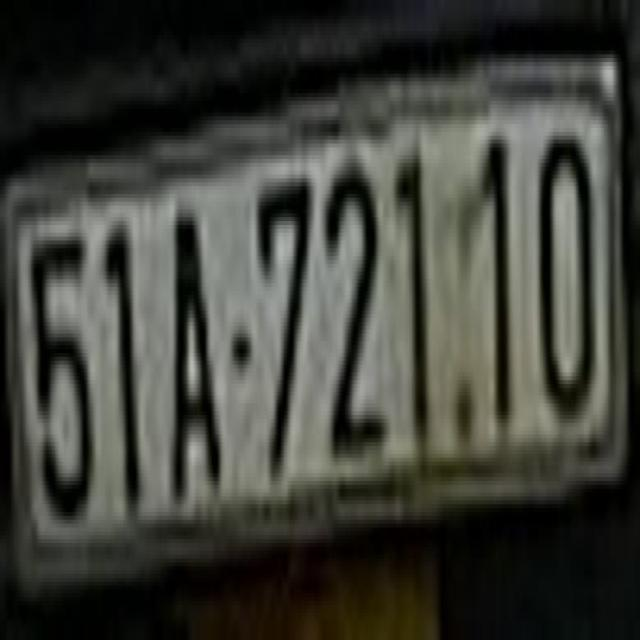0: (538, 114, 595, 425)
1: (102, 200, 144, 518), (395, 134, 433, 444), (480, 118, 514, 429)
2: (323, 147, 388, 458)
5: (30, 209, 94, 532)
7: (255, 163, 312, 481)
A: (167, 184, 223, 506)
